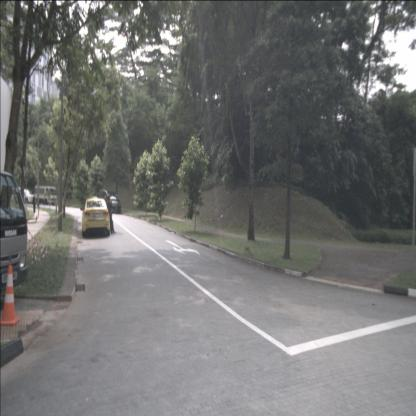cone: (0, 264, 20, 327)
